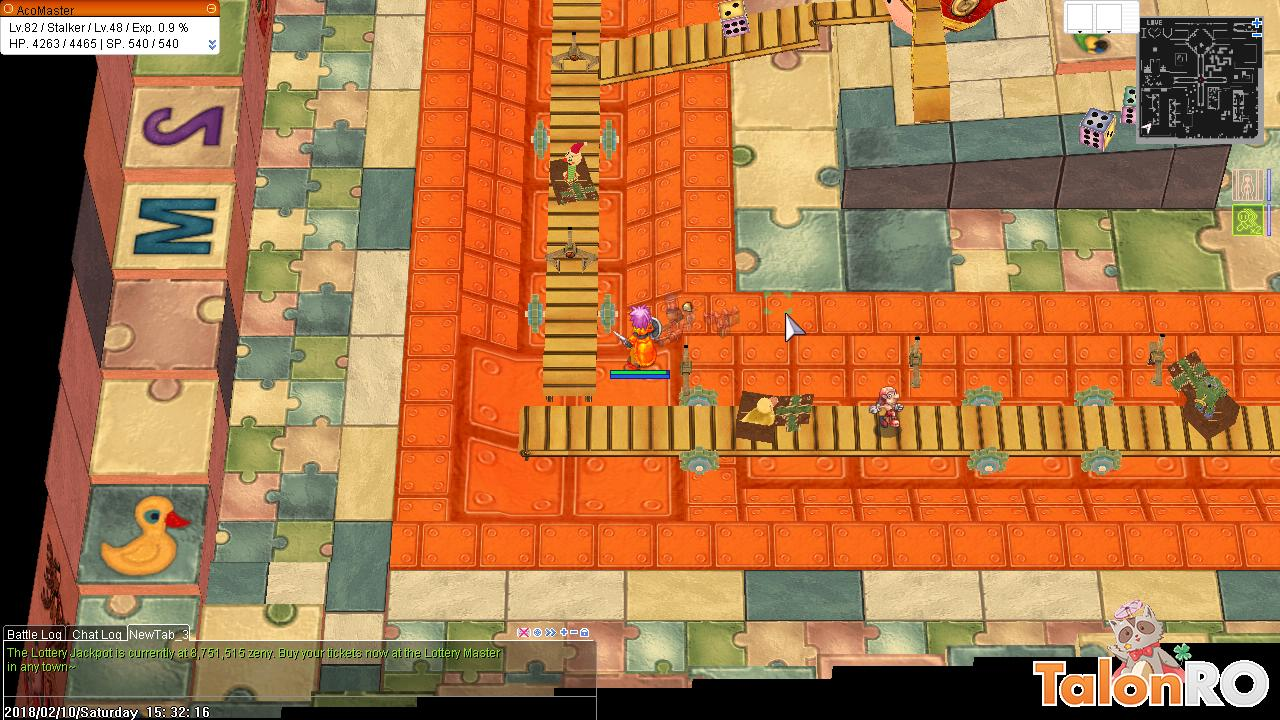loot: (673, 293, 697, 323)
